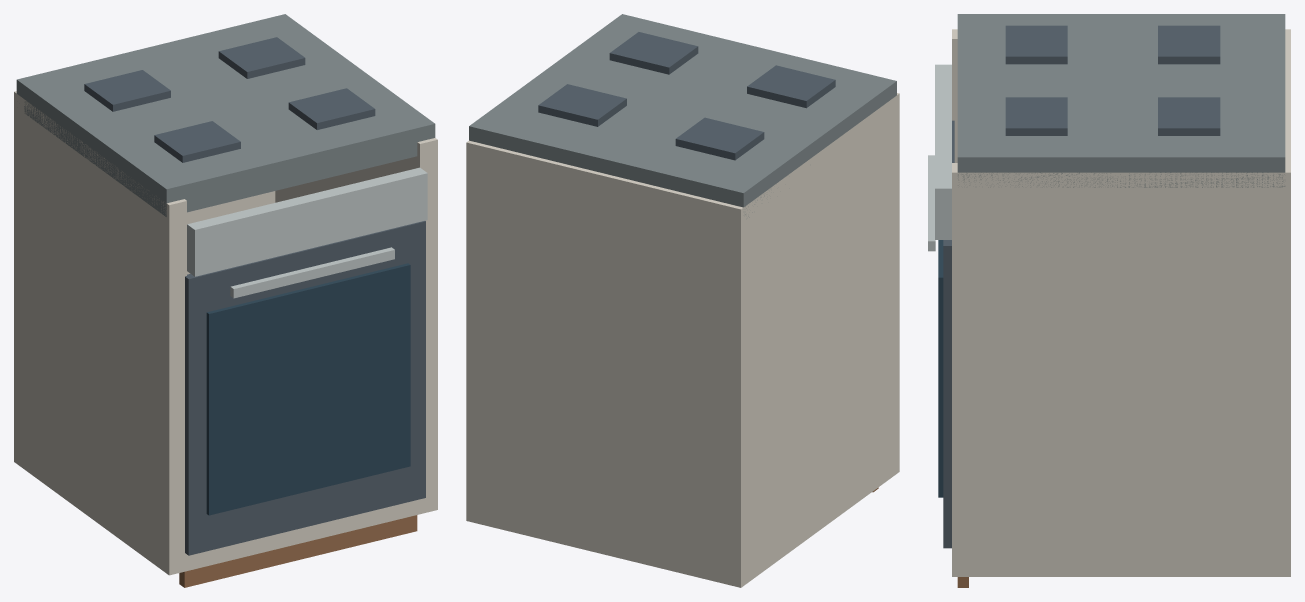
The model's file is Kitchen_Stove_Oven_60.fbx.
The picture shows the model from 3 angles, left to right: view 1: azimuth 30°, elevation 25°; view 2: azimuth 150°, elevation 25°; view 3: azimuth 270°, elevation 25°; orthographic projection. The views are drawn at different scales.
Parts seen in each view (by area): view 1: Kitchen_Stove_Oven_60; view 2: Kitchen_Stove_Oven_60; view 3: Kitchen_Stove_Oven_60.
Part boxes in pixels (left/top/right/bottom): Kitchen_Stove_Oven_60: left=14, top=14, right=437, bottom=587; Kitchen_Stove_Oven_60: left=466, top=14, right=899, bottom=587; Kitchen_Stove_Oven_60: left=928, top=14, right=1290, bottom=587.
Size of the model in its own units: 0.6 by 0.877 by 0.642.
